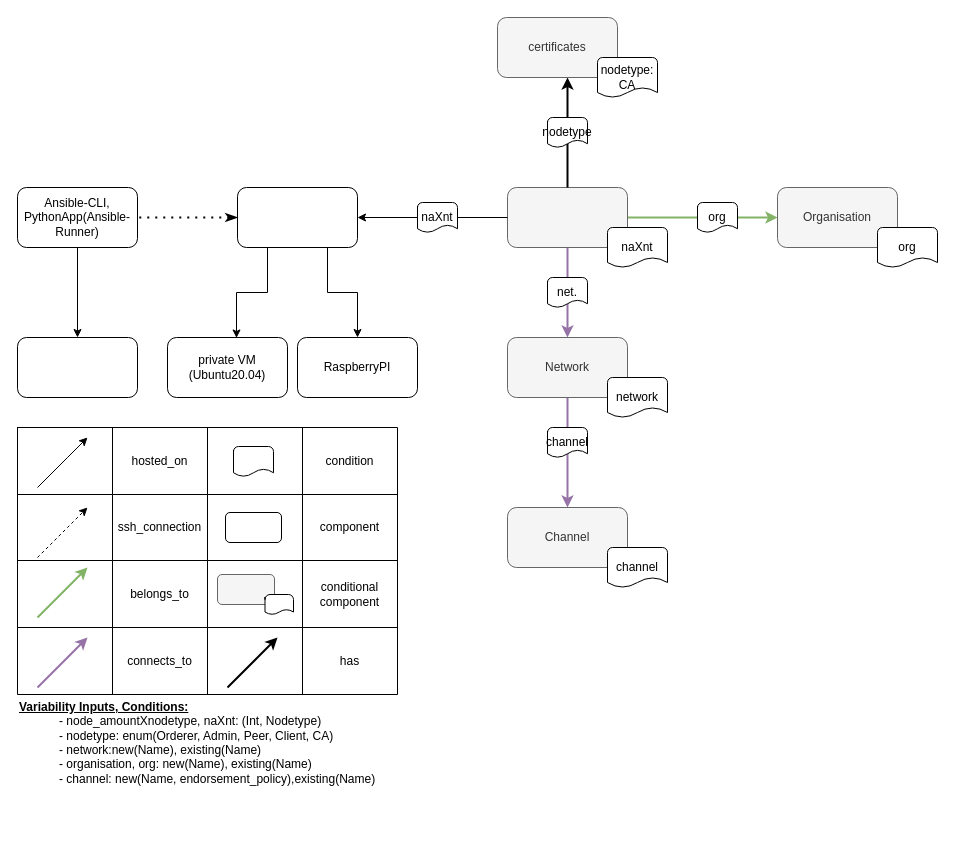
Some shapes in this 955 by 852 pixel diagram are drawn without their labels. The centre of each missing label's shape, as x and y in pixels:
MacOS Ventura: [77,367]
Minifabric-Node-Device: [297,217]
Node: [567,217]
